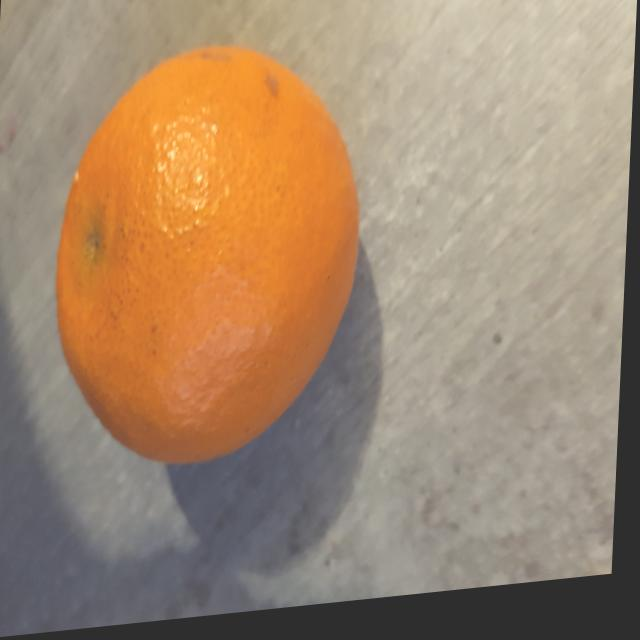Orange: (54, 48, 361, 471)
